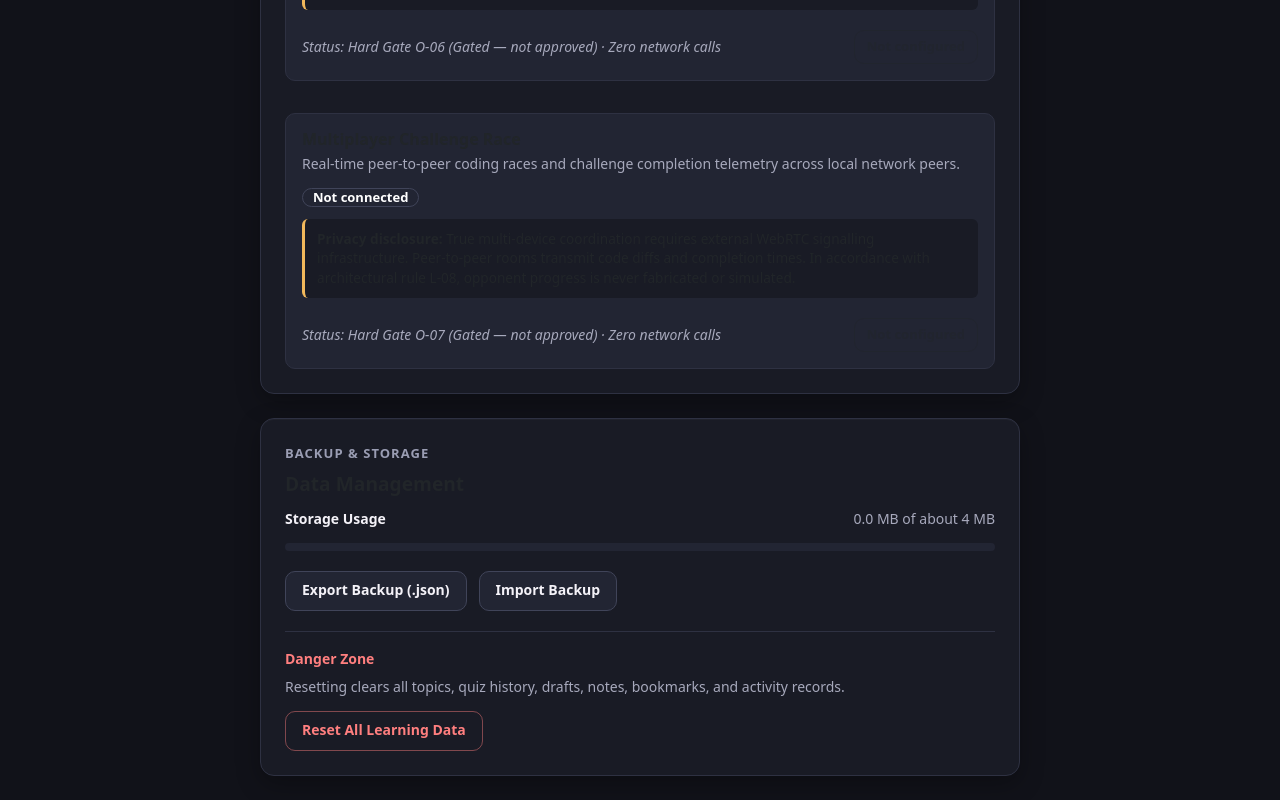
Settings Page (14.1, 14.2, 14.4, FC-07) › requires explicit typed "RESET" confirmation before allowing danger reset
The width and height of the screenshot is (1280, 800).
(page scrolled)
# Click Reset All Learning Data
Click the button "Reset All Learning Data": (384, 731) [285, 711, 483, 751]
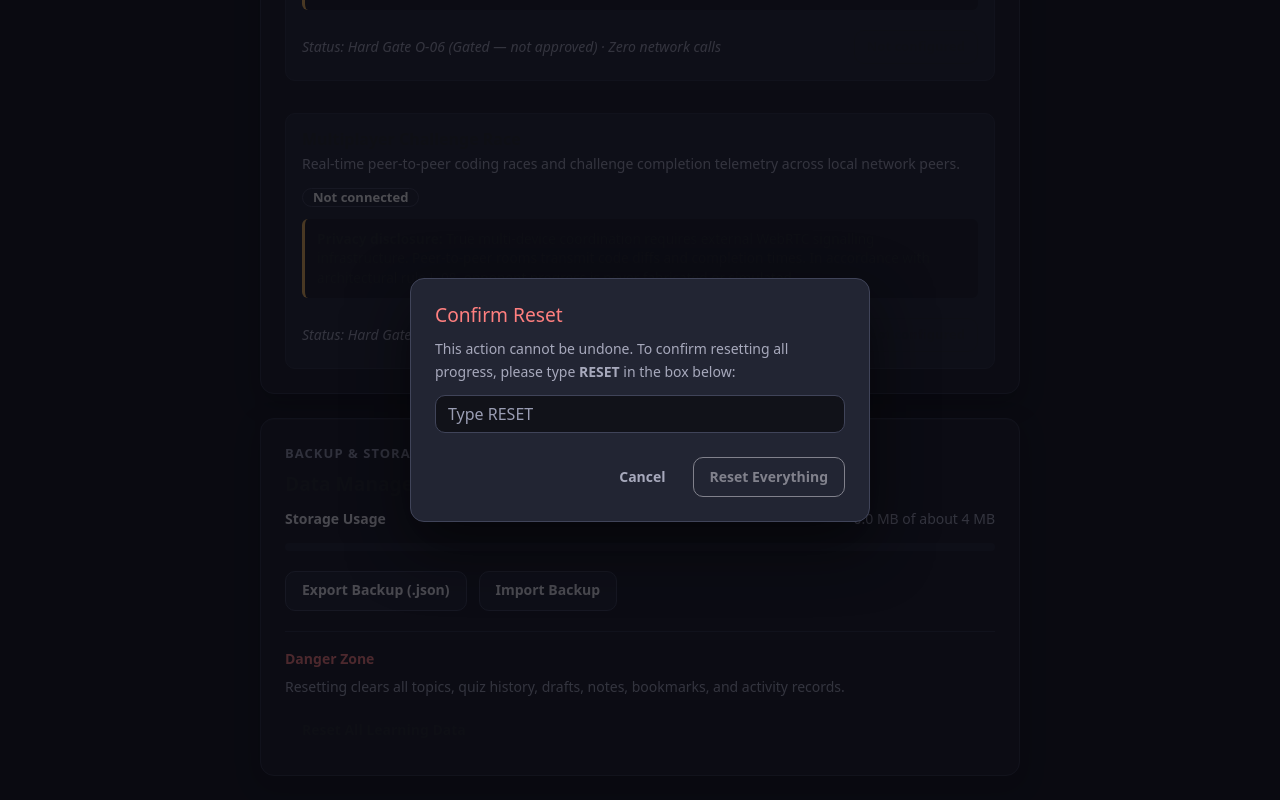
Result: the button "Reset Everything" is disabled at [692, 457, 845, 497]
# Type something other than RESET
In the field named "Type RESET to confirm": (640, 414) [435, 395, 845, 433], type "no"
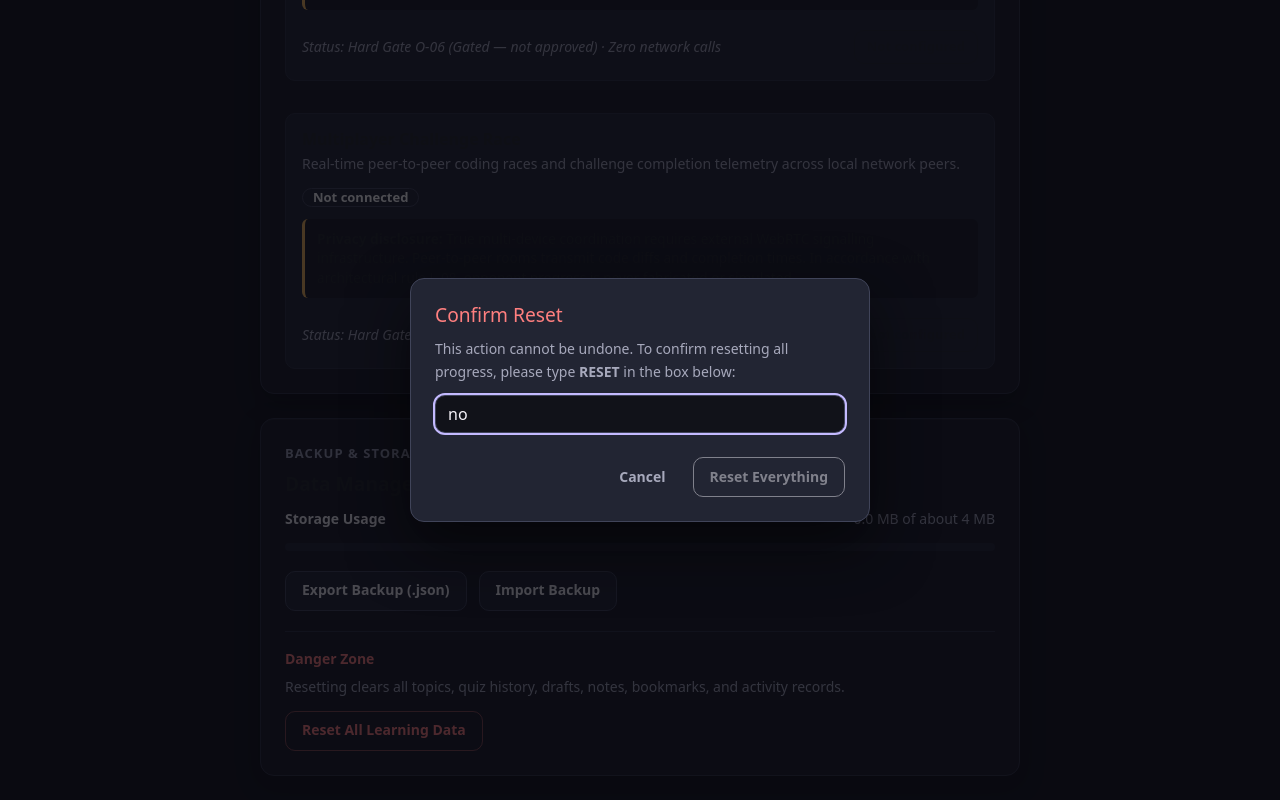
Result: the button "Reset Everything" is disabled at [692, 457, 845, 497]
# Type RESET
Replace the text in the field named "Type RESET to confirm" with "RESET": (640, 414) [435, 395, 845, 433]
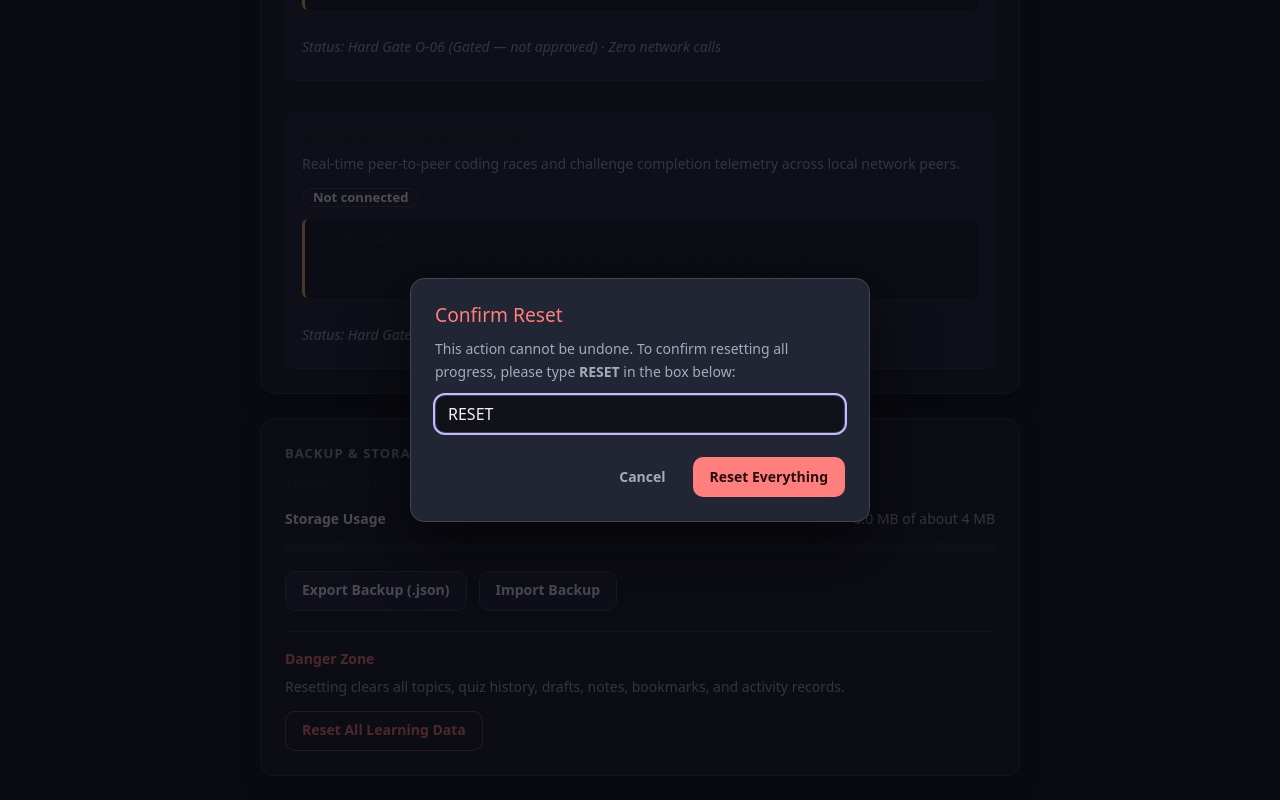
Result: the button "Reset Everything" is enabled
Click the button "Reset Everything": (769, 477) [692, 457, 845, 497]
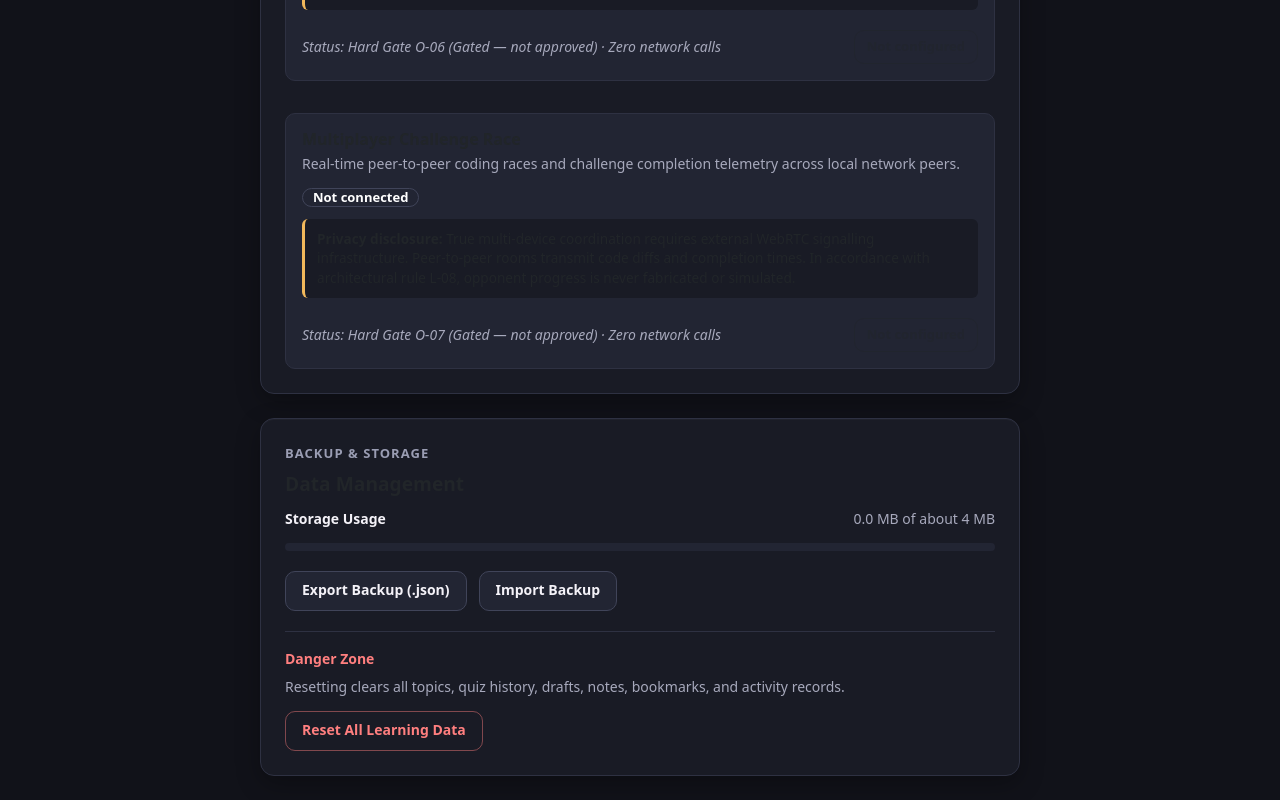
Result: the dialog is gone
